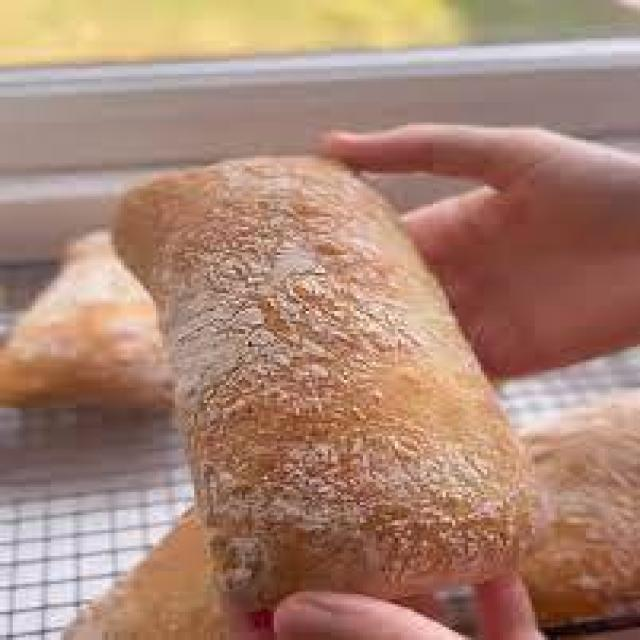Ciabatta: (115, 156, 541, 609)
